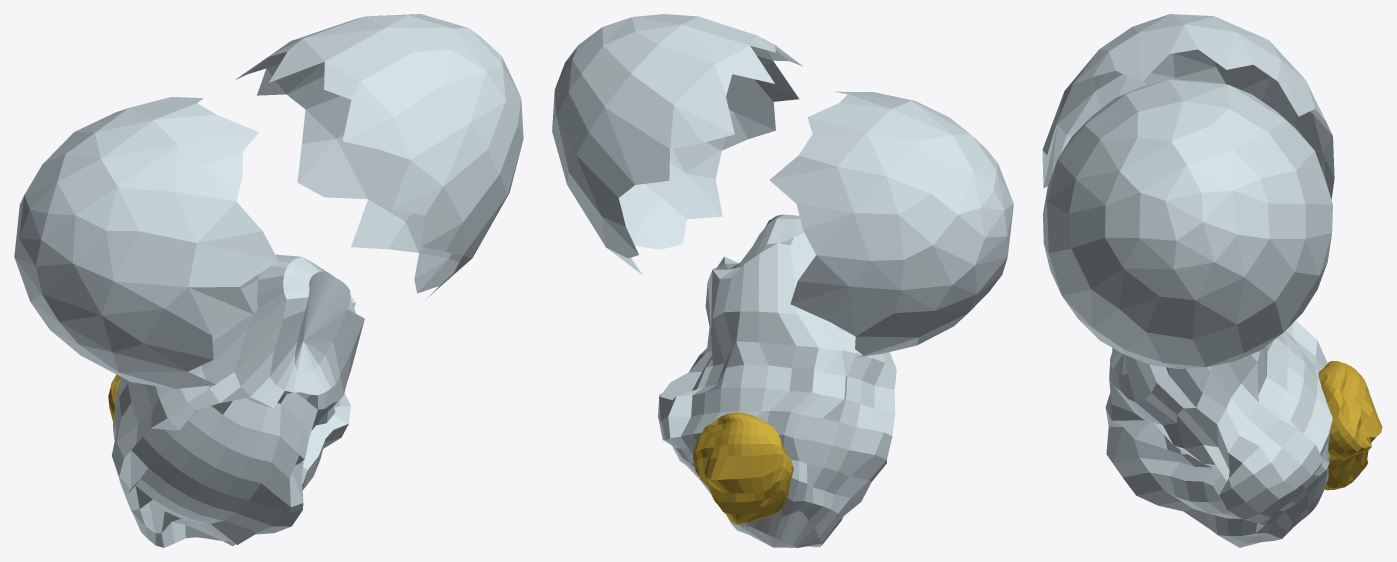
The model's file is egg.glb.
The picture shows the model from 3 angles, left to right: view 1: azimuth 30°, elevation 25°; view 2: azimuth 150°, elevation 25°; view 3: azimuth 270°, elevation 25°; orthographic projection. The views are drawn at different scales.
Visible parts, largest first — view 1: Sphere.002, Sphere.001; view 2: Sphere.002, Sphere.001, Sphere; view 3: Sphere.002, Sphere.001, Sphere.
Part boxes in pixels (<box>): Sphere.002: <box>14,14,523,389</box>; Sphere.001: <box>111,254,364,547</box>; Sphere.002: <box>552,14,1013,357</box>; Sphere.001: <box>658,214,896,547</box>; Sphere: <box>693,412,793,524</box>; Sphere.002: <box>1042,14,1334,368</box>; Sphere.001: <box>1105,320,1332,547</box>; Sphere: <box>1318,361,1382,490</box>.
Bounding box in the file's own units: 10.11 × 10.17 × 6.21.
